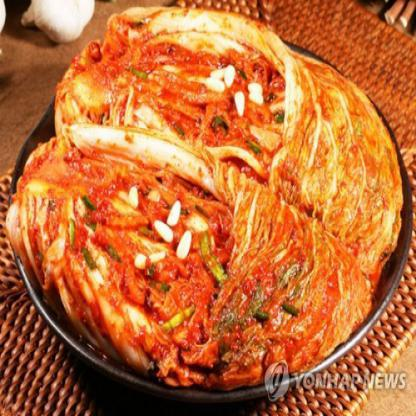kimchi: (6, 135, 368, 388), (31, 2, 407, 242)
